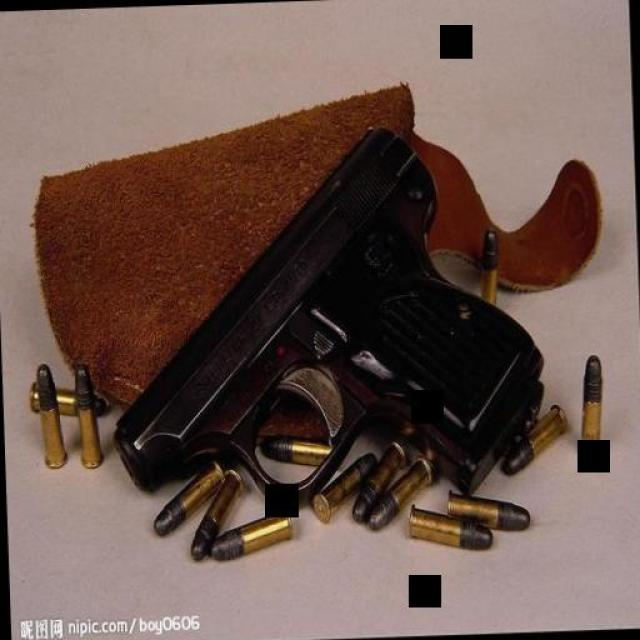gun: (103, 116, 548, 515)
